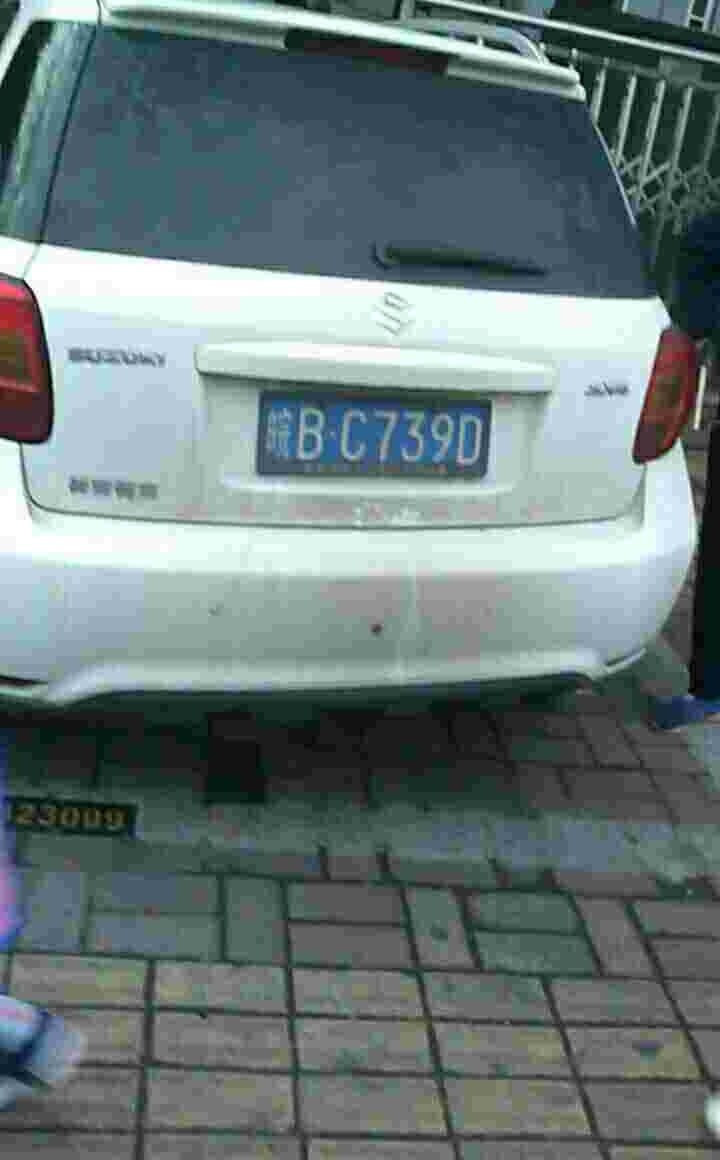license_plate: (270, 401, 491, 472)
